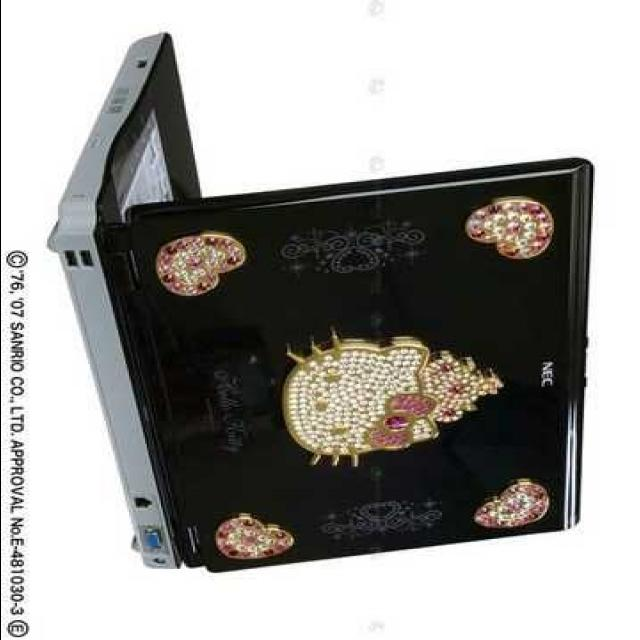laptop: (37, 31, 597, 578)
